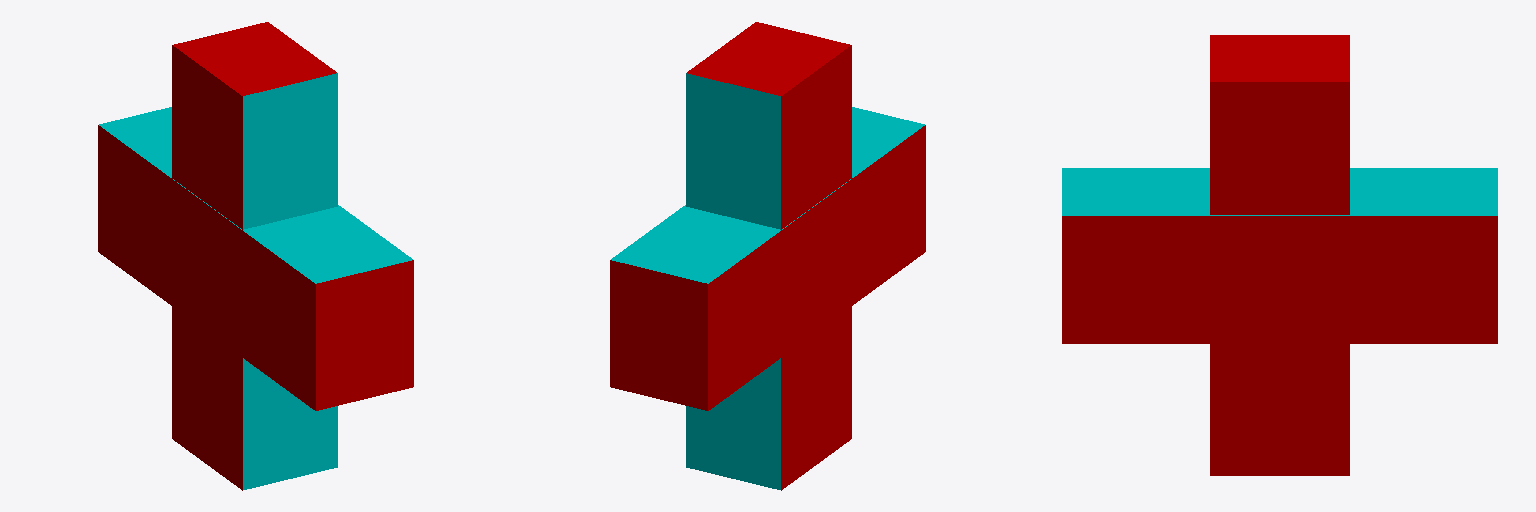
The model's file is cross.obj.
The picture shows the model from 3 angles: view 1: azimuth 30°, elevation 25°; view 2: azimuth 150°, elevation 25°; view 3: azimuth 270°, elevation 25°; orthographic projection.
Parts seen in each view (by area): view 1: Mesh1 box Group2 life Model, Mesh2 box1 Group2 life Model; view 2: Mesh1 box Group2 life Model, Mesh2 box1 Group2 life Model; view 3: Mesh1 box Group2 life Model, Mesh2 box1 Group2 life Model.
Boxes of the visible parts, x1=… form: Mesh1 box Group2 life Model: x1=98, y1=107, x2=413, y2=410; Mesh2 box1 Group2 life Model: x1=172, y1=22, x2=337, y2=490; Mesh1 box Group2 life Model: x1=610, y1=107, x2=925, y2=410; Mesh2 box1 Group2 life Model: x1=686, y1=22, x2=851, y2=490; Mesh1 box Group2 life Model: x1=1062, y1=168, x2=1497, y2=343; Mesh2 box1 Group2 life Model: x1=1210, y1=35, x2=1349, y2=475.
Bounding box in the file's own units: 28.69 × 110 × 110.